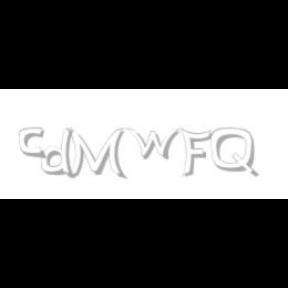F: (180, 128, 212, 178)
M: (66, 128, 124, 180)
Q: (211, 128, 257, 178)
c: (18, 128, 48, 160)
d: (42, 128, 78, 180)
w: (125, 128, 184, 160)
